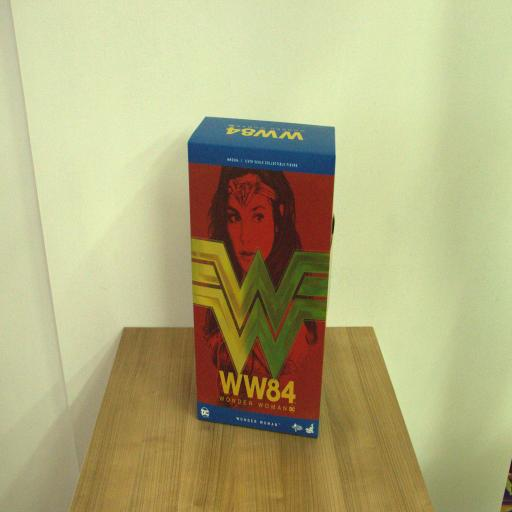WonderWoman: (186, 115, 336, 442)
